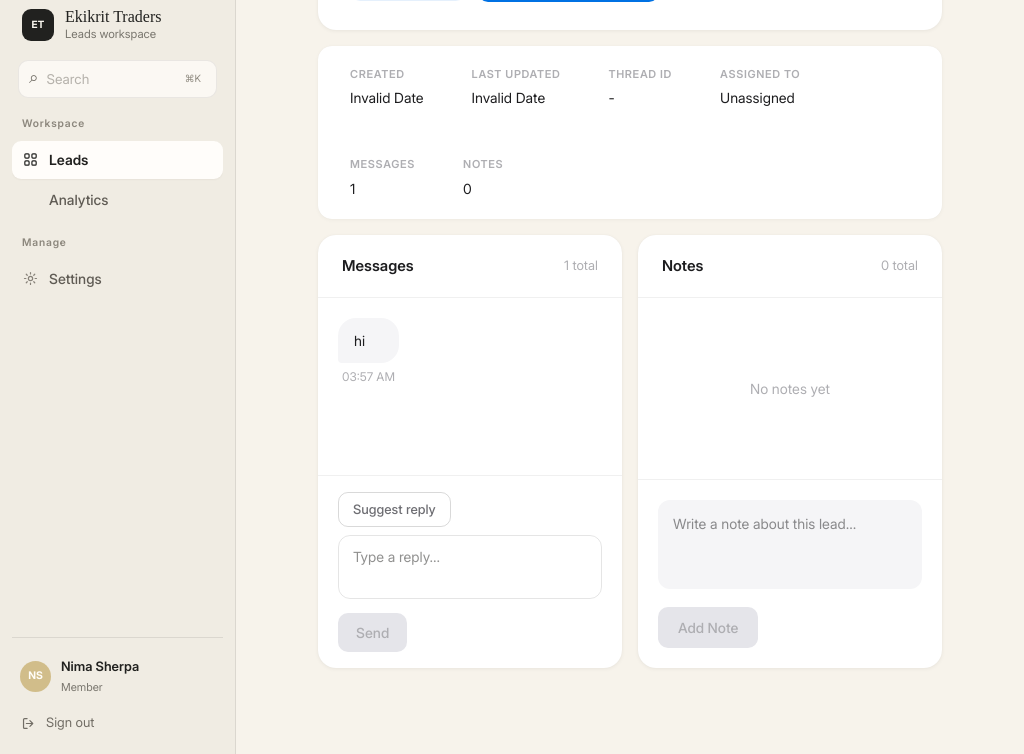
LeadDetailPage — reply composer › falls back to a generic failure message when the server gives no error field
(page scrolled)
Expected: the text "Messages" below "Created" is shown, [350,157,415,171]
Type "hello there" into the text box with placeholder "Type a reply..." at (470, 567), box [338,535,602,599]
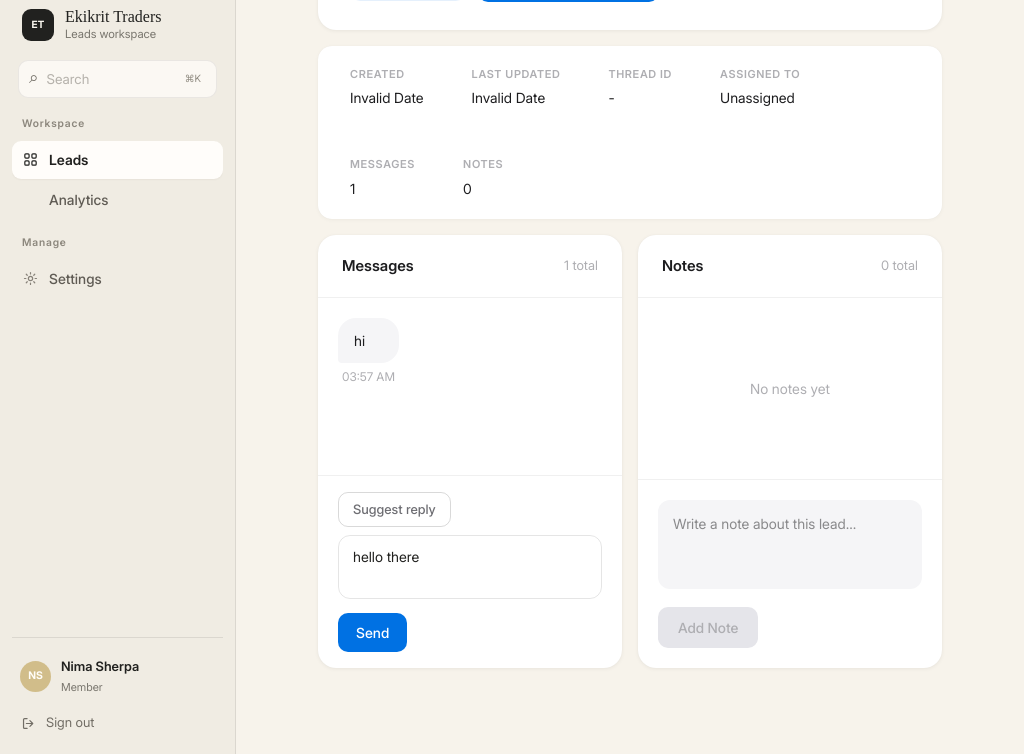
Click the button "Send" at (373, 632), box [338,613,407,652]
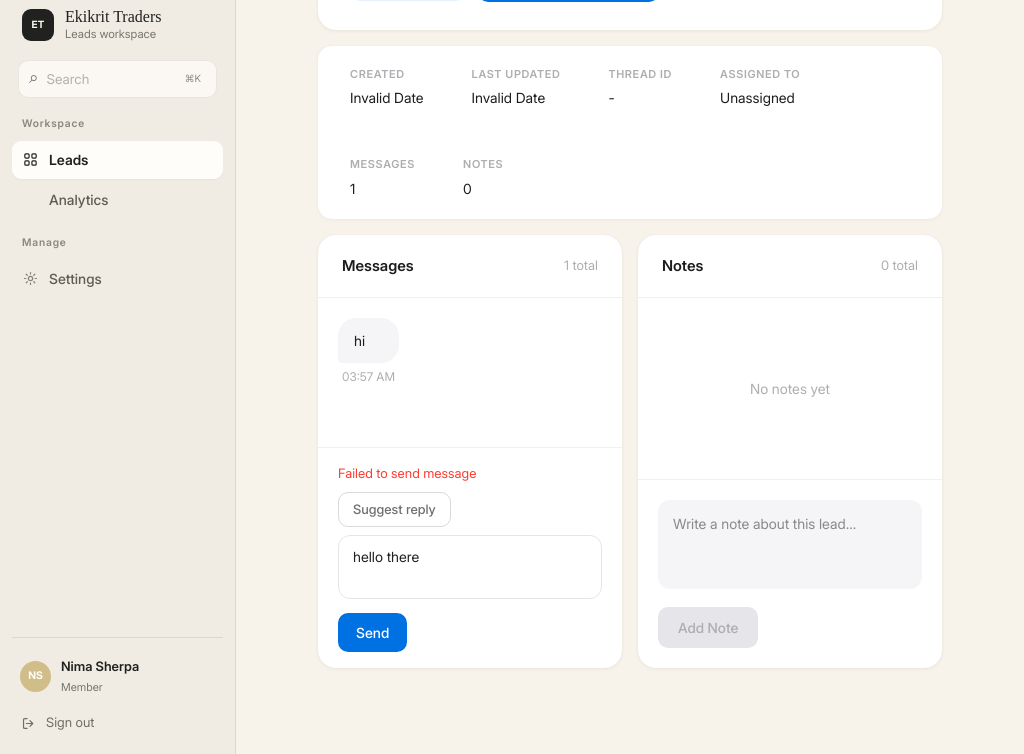
Result: the text "Failed to send message" is shown at [338,465,476,481]
